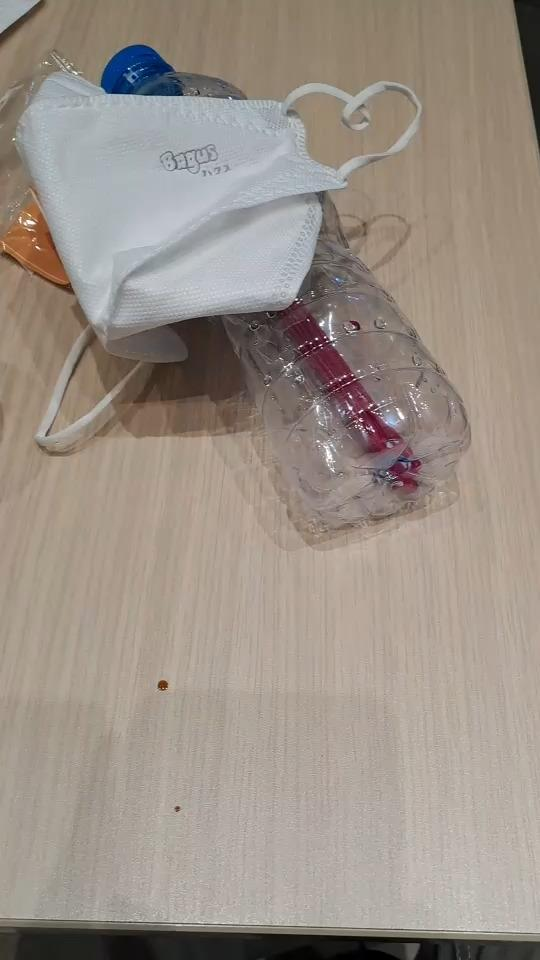face_mask: (21, 66, 423, 457)
